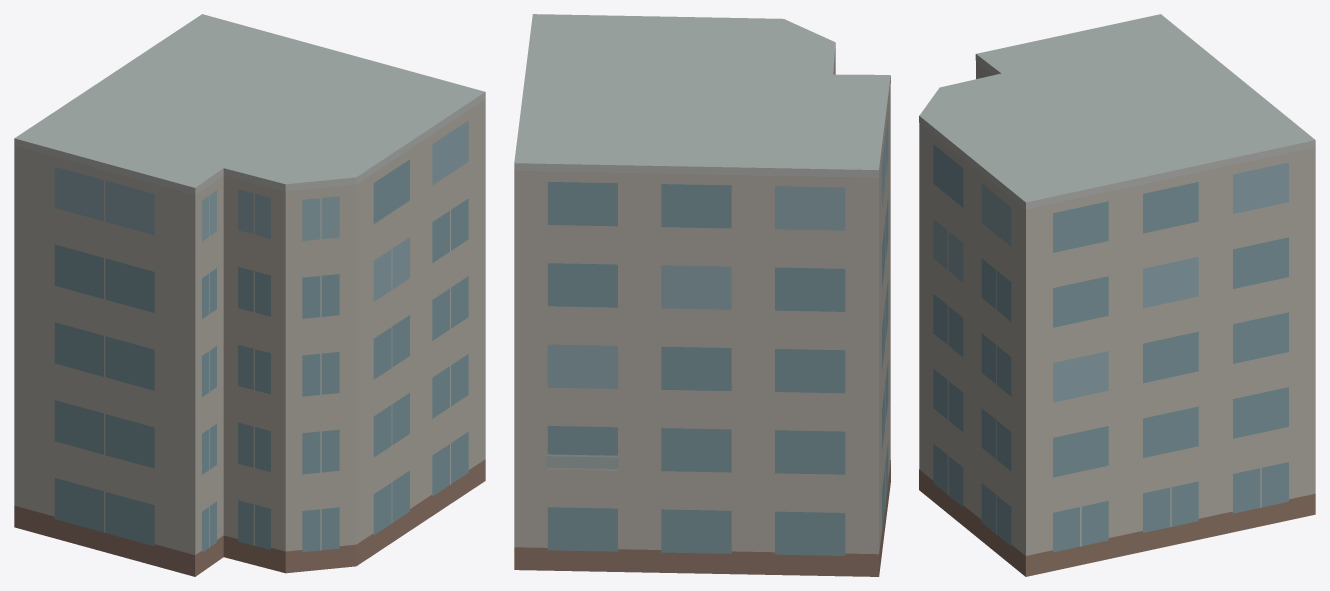
The model's file is survey-upis-32839764.glb.
3 renders of one model, left to right at view 1: azimuth 30°, elevation 25°; view 2: azimuth 150°, elevation 25°; view 3: azimuth 270°, elevation 25°, orthographic. The views are drawn at different scales.
Visible parts, largest first — view 1: survey-upis-32839764.tmp; view 2: survey-upis-32839764.tmp; view 3: survey-upis-32839764.tmp.
Part boxes in pixels (x1=…): survey-upis-32839764.tmp: x1=14, y1=14, x2=485, y2=576; survey-upis-32839764.tmp: x1=514, y1=14, x2=890, y2=576; survey-upis-32839764.tmp: x1=919, y1=14, x2=1315, y2=576.
Size of the model in its own units: 14.24 by 13.18 by 12.66.
